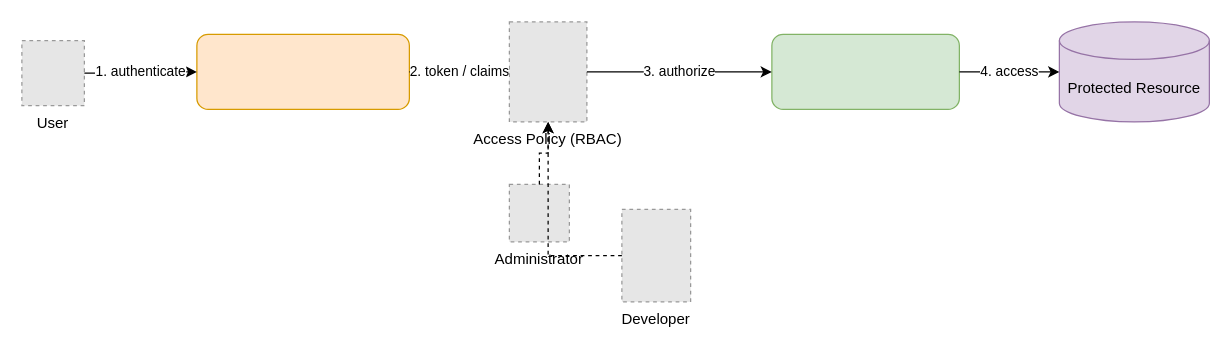
This 1231x350 diagram has some shape labels left out. Grey dashed boxes stand in for pictures. Each missing label, with the centre of its shape:
"Application" goes at [865,71].
"Identity Provider (Authentication)" goes at [302,71].
